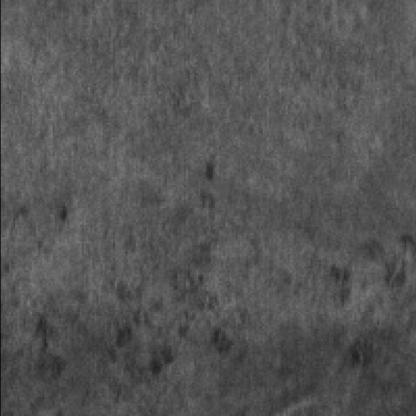rolled-in_scale: (15, 247, 247, 400), (322, 235, 416, 318)
